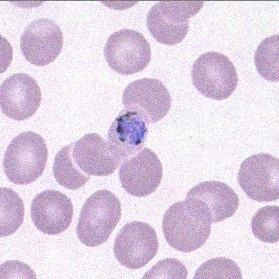Infected: (107, 107, 148, 149)
Uninfected: (162, 200, 211, 252), (76, 190, 121, 246), (190, 50, 239, 99), (2, 131, 47, 183), (185, 181, 240, 223), (71, 132, 123, 176), (112, 222, 158, 269), (122, 79, 171, 122), (104, 29, 150, 74), (237, 153, 279, 202), (119, 150, 162, 197), (21, 19, 63, 67), (0, 72, 41, 120), (52, 142, 94, 188), (145, 3, 189, 46), (30, 191, 73, 235), (250, 207, 279, 242)
